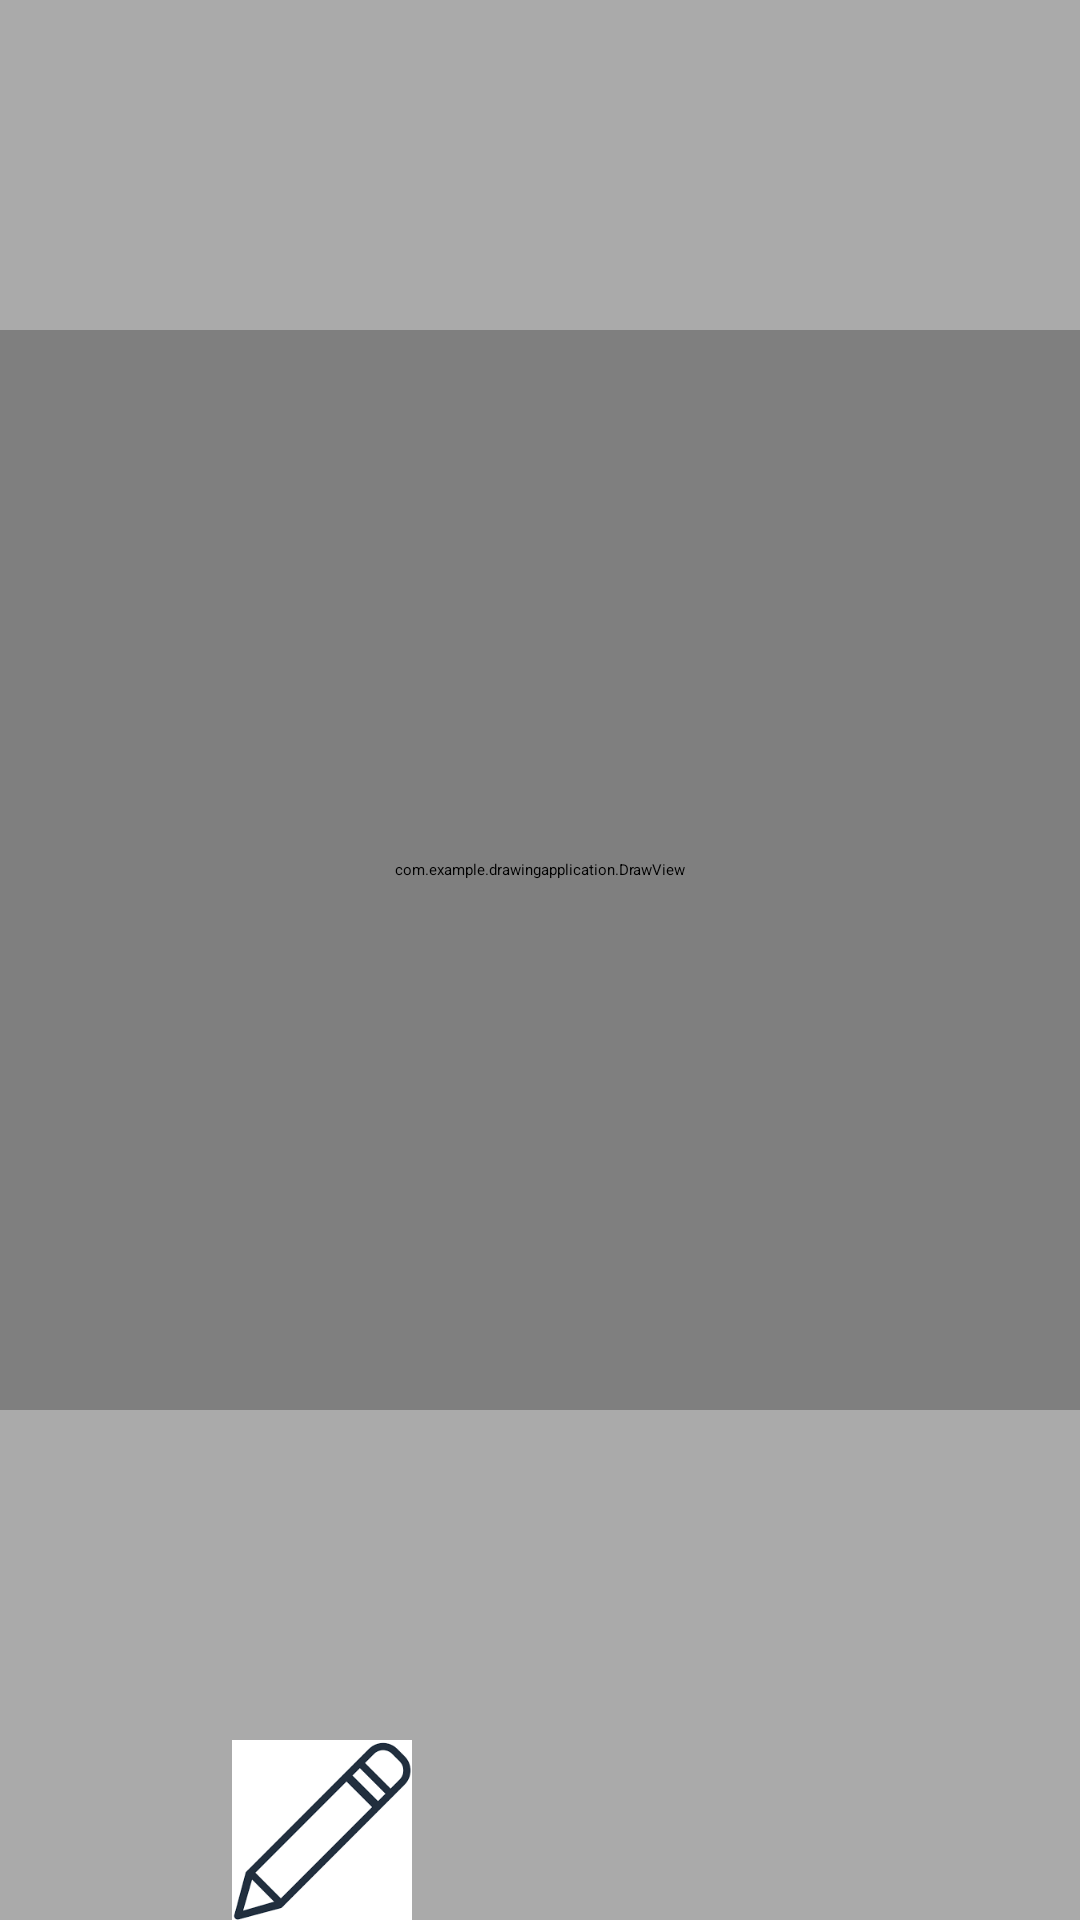

Icon bounding boxes for this 1080×1920 phone screenshot, format Rect(x1, y1, x2, y2):
pensize: Rect(232, 1740, 412, 1920)
